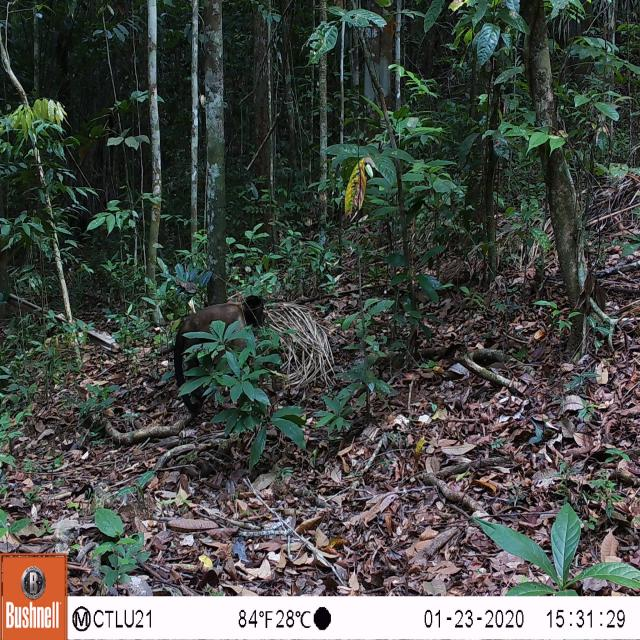Margarita Island Capuchin: (170, 286, 275, 423)
